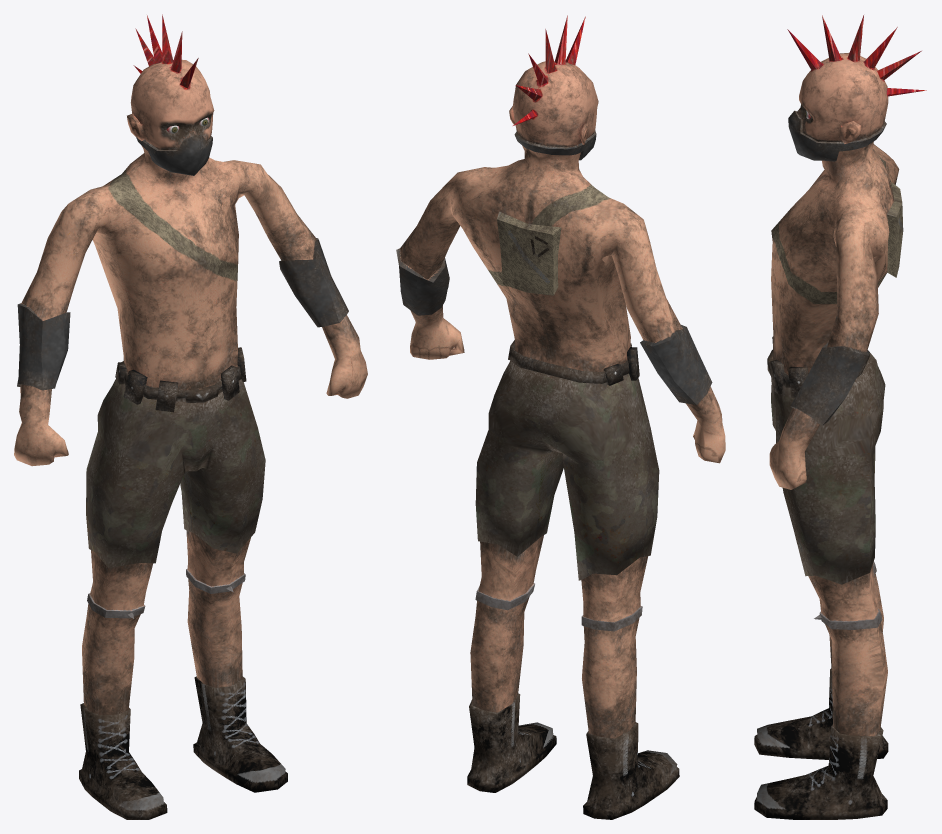
The model's file is Anim_idle_npc2.0036.obj.
3 renders of one model, left to right at view 1: azimuth 30°, elevation 25°; view 2: azimuth 150°, elevation 25°; view 3: azimuth 270°, elevation 25°, orthographic.
Visible parts, largest first — view 1: polySurface1; view 2: polySurface1; view 3: polySurface1.
Boxes of the visible parts, box(x1,y1,x2,y2) form: polySurface1: box(14, 14, 367, 819); polySurface1: box(396, 15, 725, 819); polySurface1: box(754, 15, 926, 819).
Size of the model in its own units: 4.67 by 10.18 by 2.08.
